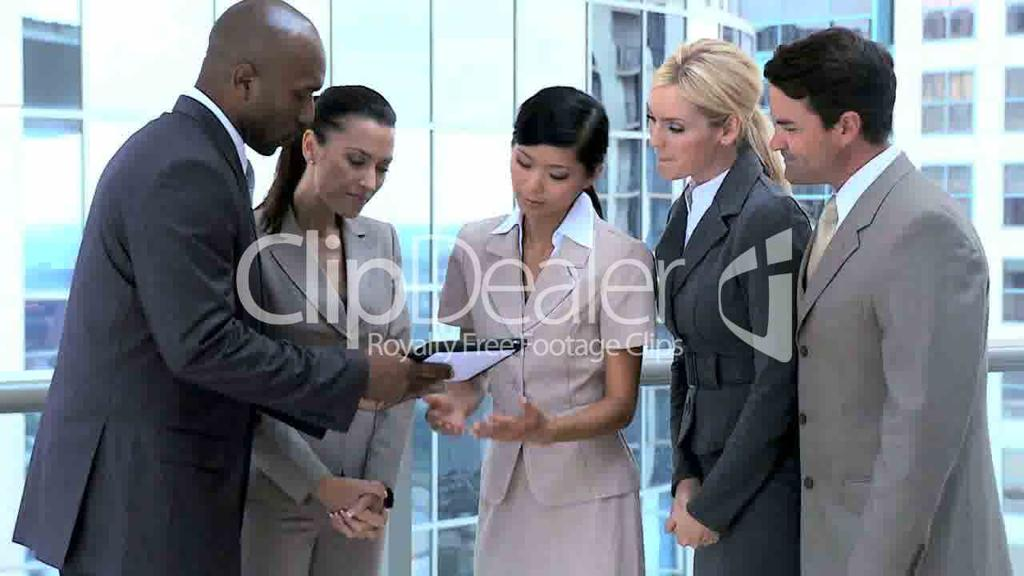face: (254, 30, 318, 158), (766, 76, 840, 184), (322, 116, 392, 216), (646, 86, 718, 180), (512, 128, 588, 216)
